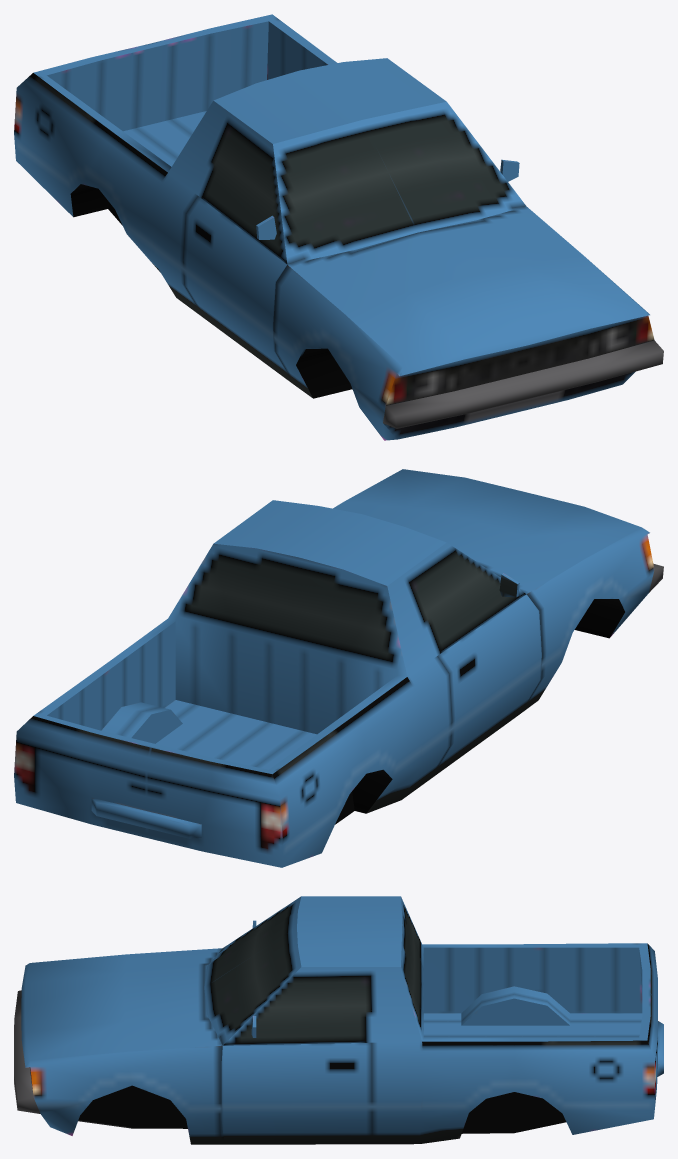
The model's file is jdm_pickup.obj.
3 renders of one model, top to bottom at view 1: azimuth 30°, elevation 25°; view 2: azimuth 150°, elevation 25°; view 3: azimuth 270°, elevation 25°, orthographic. The views are drawn at different scales.
Parts seen in each view (by area): view 1: jdm_pickup; view 2: jdm_pickup; view 3: jdm_pickup.
Part boxes in pixels (left/top/right/bottom): jdm_pickup: left=14, top=14, right=663, bottom=440; jdm_pickup: left=14, top=469, right=663, bottom=867; jdm_pickup: left=14, top=896, right=663, bottom=1144.
Size of the model in its own units: 1.57 by 1.17 by 3.95.
1 material, 1 textured.
